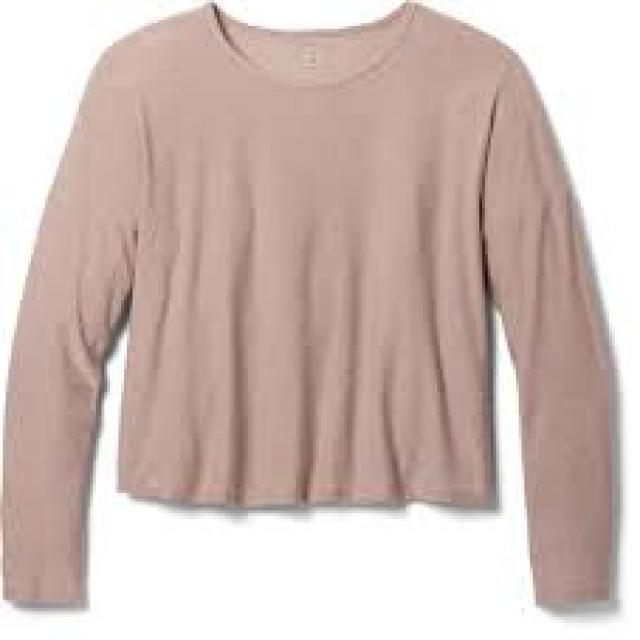plain: (1, 8, 624, 620)
